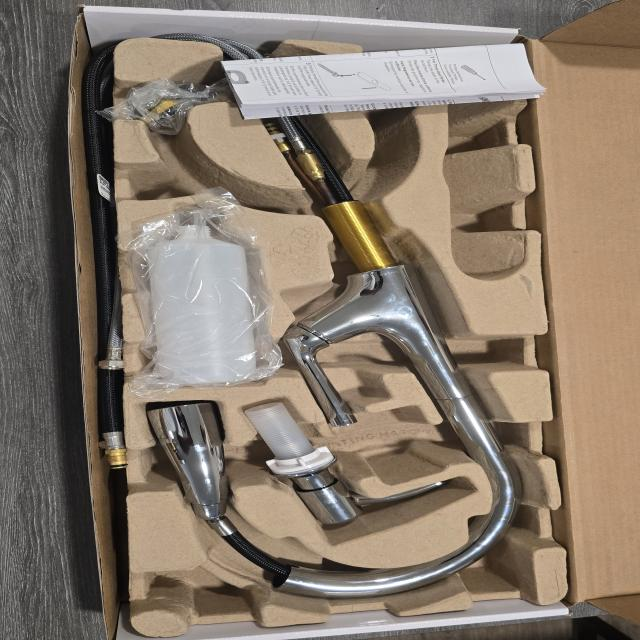1o: (146, 41, 523, 600)
2: (245, 399, 446, 525)
3: (143, 206, 263, 386)
4m: (439, 70, 527, 280)
5m: (338, 64, 417, 117)
6: (96, 75, 234, 138)
7m: (133, 142, 262, 209)
8: (219, 44, 544, 121)
